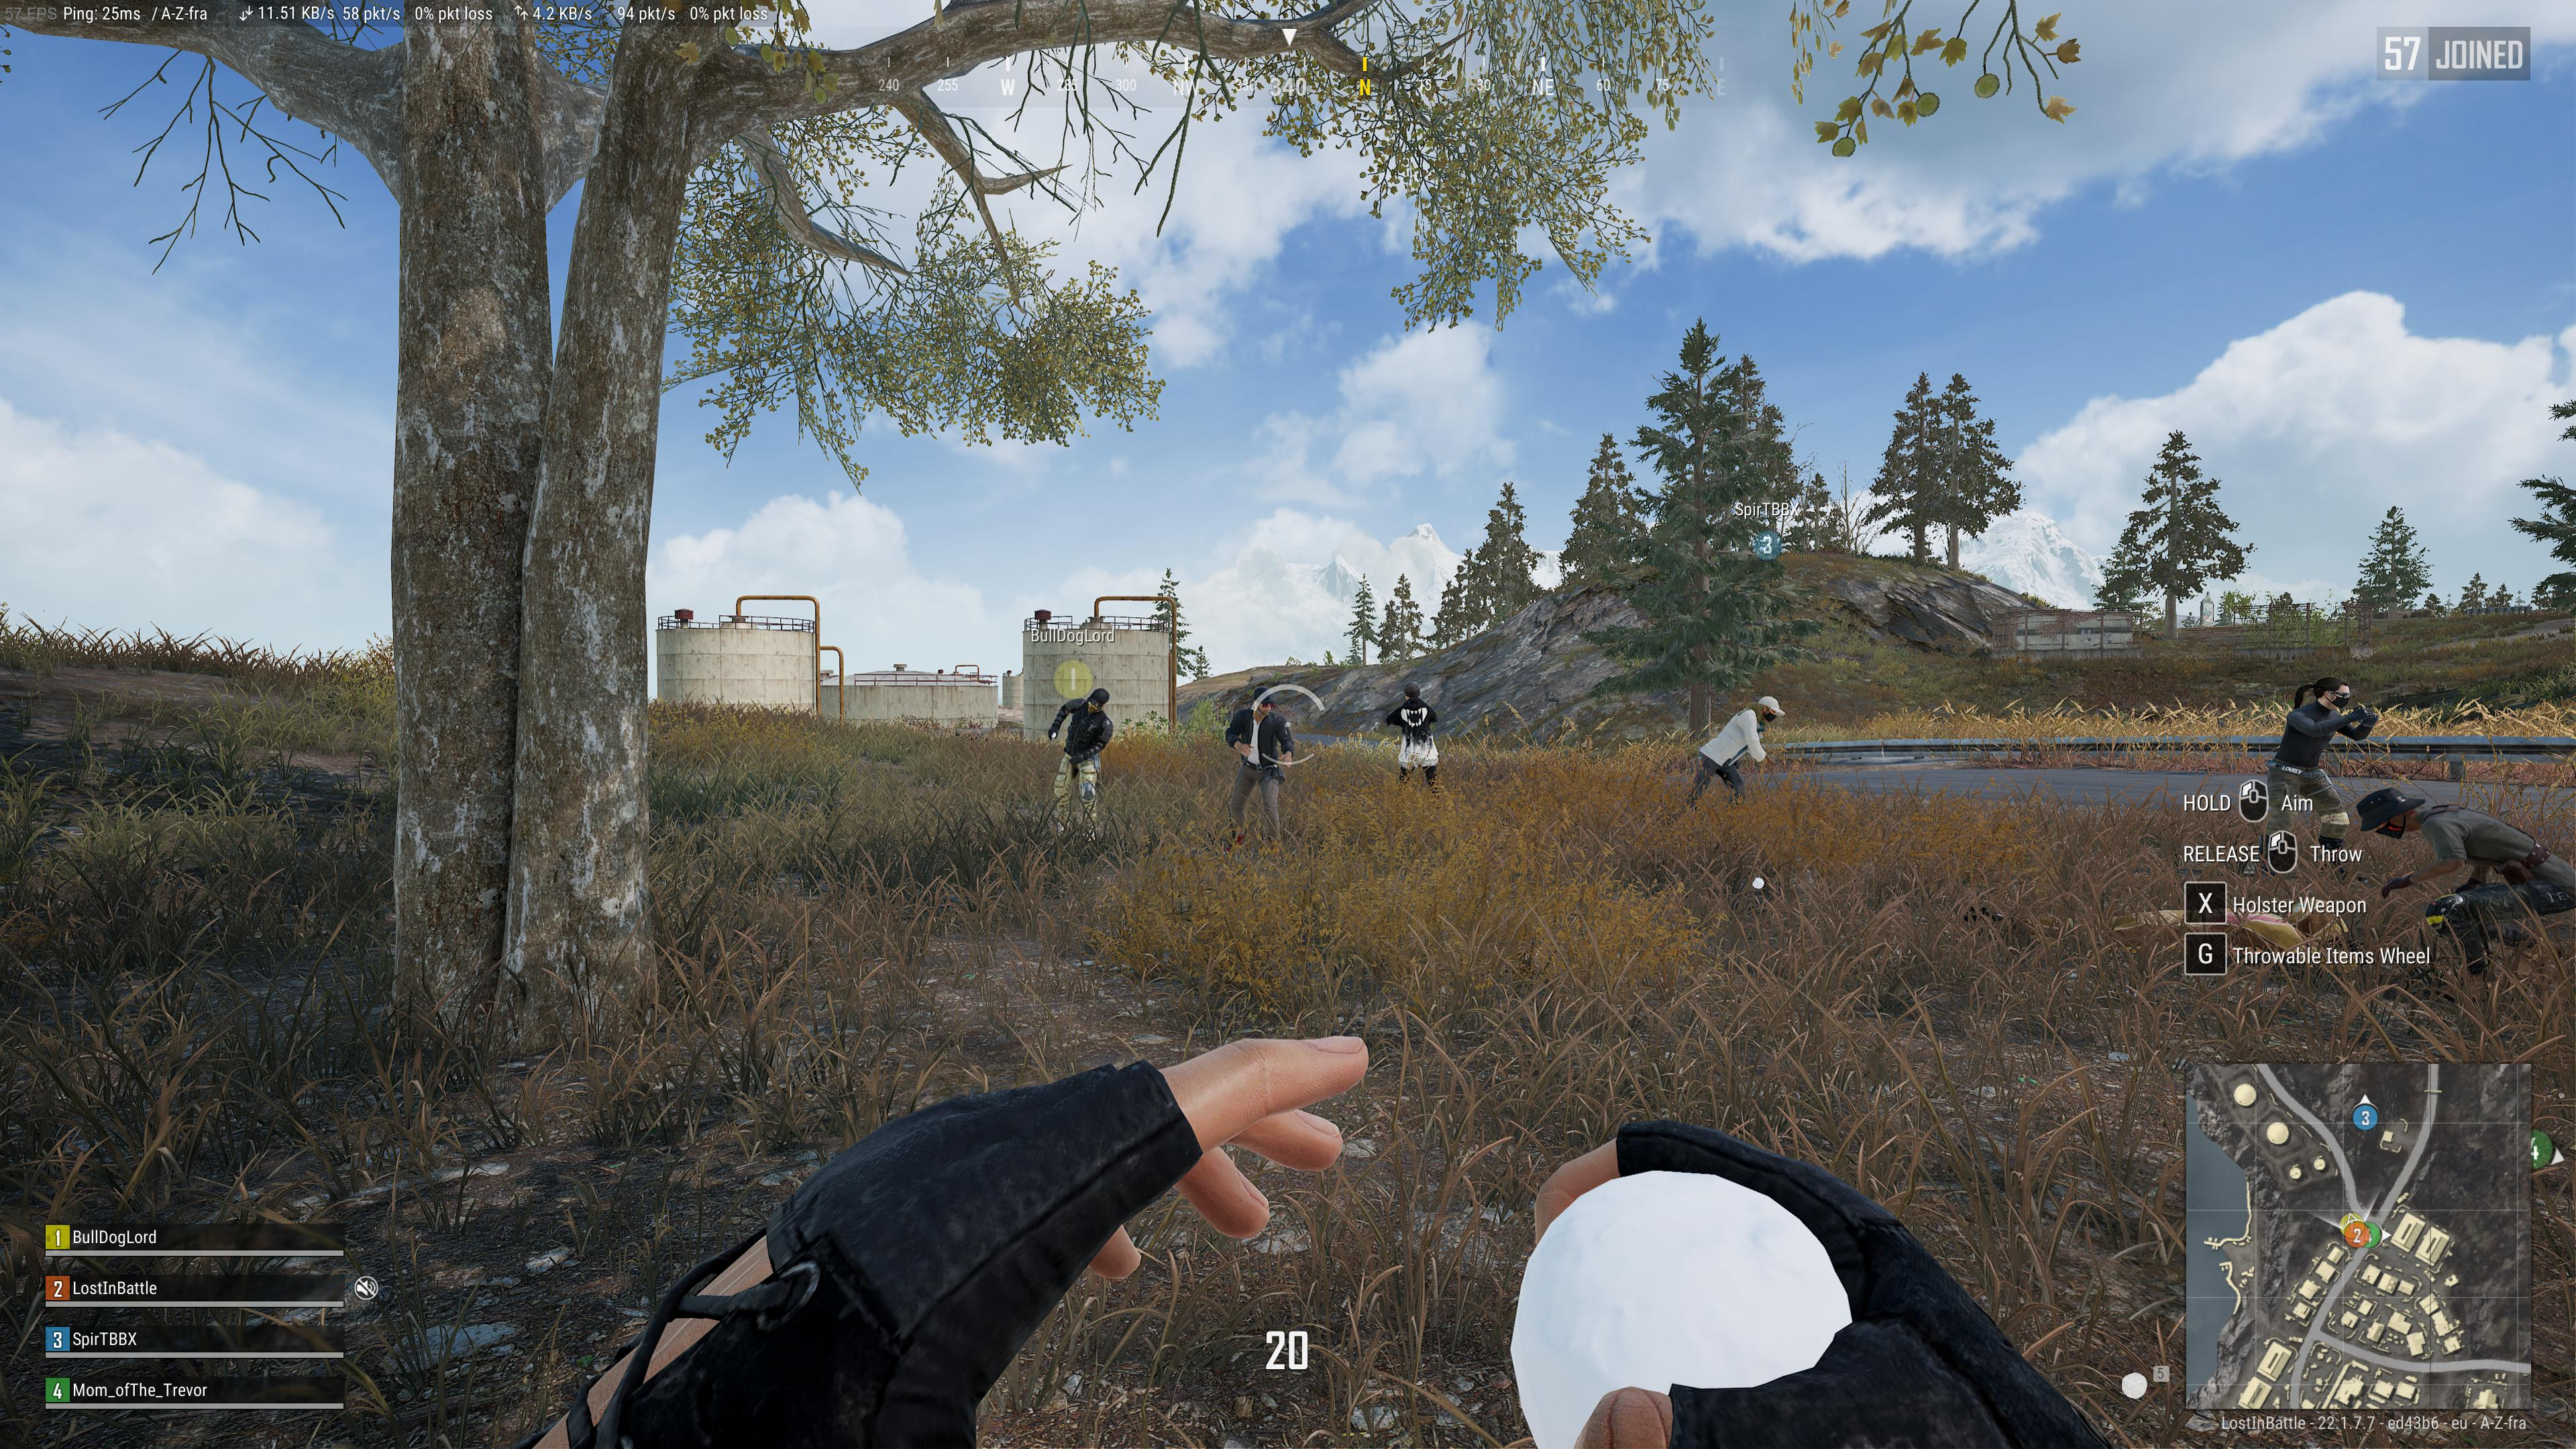enemy: (2355, 787, 2574, 978), (2250, 674, 2371, 881), (1224, 686, 1293, 862), (1684, 694, 1787, 810), (1382, 679, 1440, 800)
enemy_head: (2357, 787, 2424, 839), (2311, 676, 2353, 709), (1755, 695, 1785, 724), (1251, 686, 1276, 717), (1401, 681, 1421, 701)
friendly: (1047, 678, 1113, 842)
